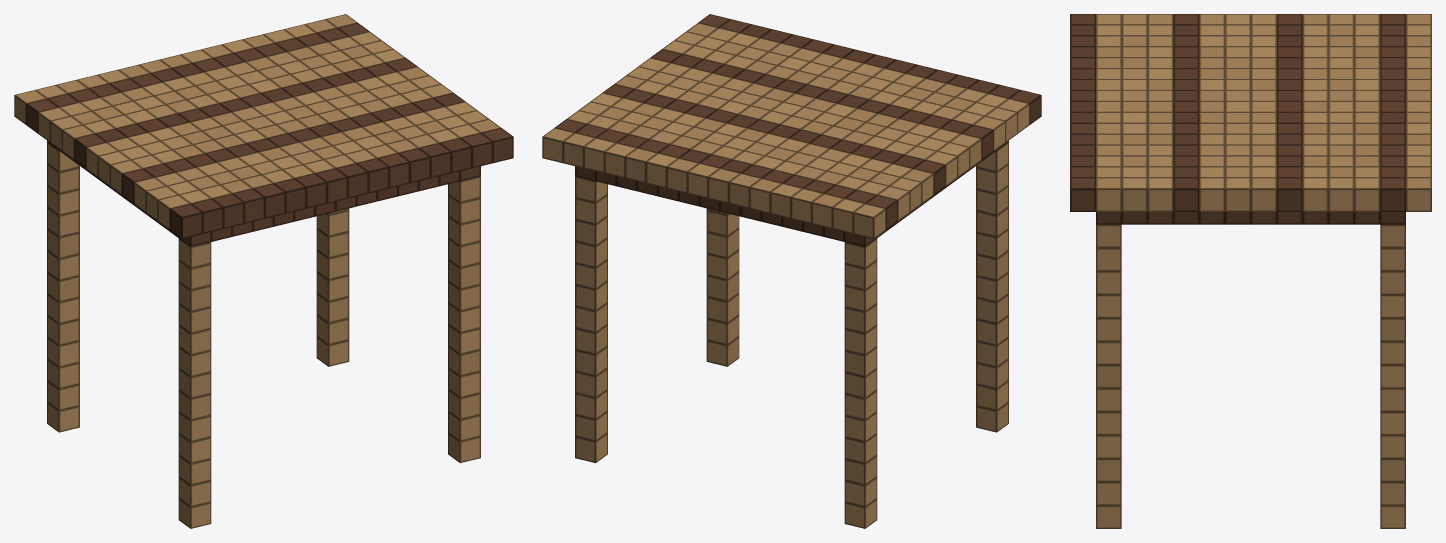
File: smoke_table_square.glb
3 views of the same model, side by side, from view 1: azimuth 30°, elevation 25°; view 2: azimuth 150°, elevation 25°; view 3: azimuth 270°, elevation 25° (orthographic). The views are drawn at different scales.
Parts seen in each view (by area): view 1: smoke_table_square; view 2: smoke_table_square; view 3: smoke_table_square.
Boxes of the visible parts, <box> form: smoke_table_square: <box>14,14,513,528</box>; smoke_table_square: <box>542,14,1041,528</box>; smoke_table_square: <box>1070,14,1431,528</box>.
Size of the model in its own units: 0.8 by 0.75 by 0.7.
Materials: 2 (2 with a texture image).
